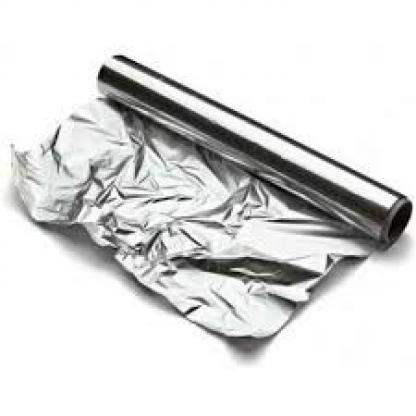Compsot: (9, 52, 410, 340)
